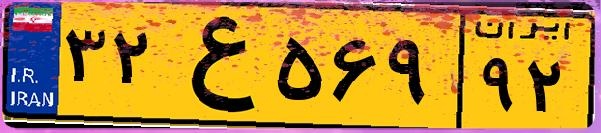2: (525, 38, 570, 115), (110, 28, 158, 98)
3: (57, 26, 110, 100)
5: (270, 28, 330, 110)
6: (330, 28, 385, 110)
9: (385, 28, 445, 110), (475, 38, 525, 113)
ع: (158, 12, 270, 120)
